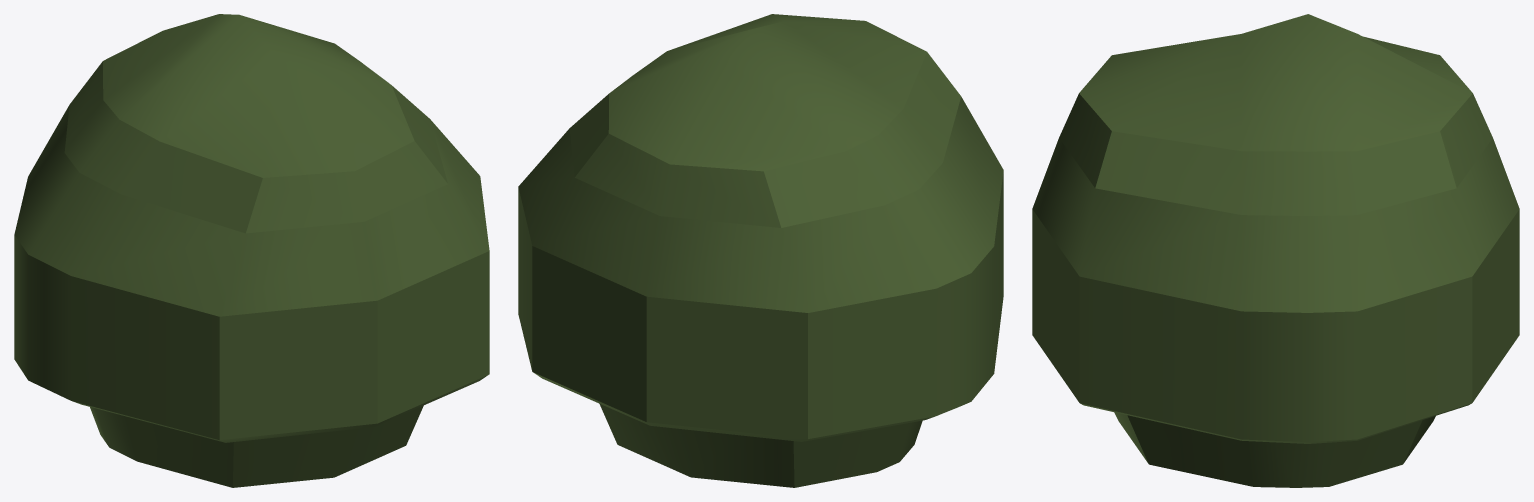
Rendered from Proto_Bush_03.fbx.
The picture shows the model from 3 angles, left to right: view 1: azimuth 30°, elevation 25°; view 2: azimuth 150°, elevation 25°; view 3: azimuth 270°, elevation 25°; orthographic projection. The views are drawn at different scales.
Visible parts, largest first — view 1: polySurface1268; view 2: polySurface1268; view 3: polySurface1268.
Boxes of the visible parts, x1,y1,x2,y2 form: polySurface1268: (14,14,489,487); polySurface1268: (518,14,1003,487); polySurface1268: (1032,14,1519,487).
Bounding box in the file's own units: 12.1 × 10.82 × 11.78.
